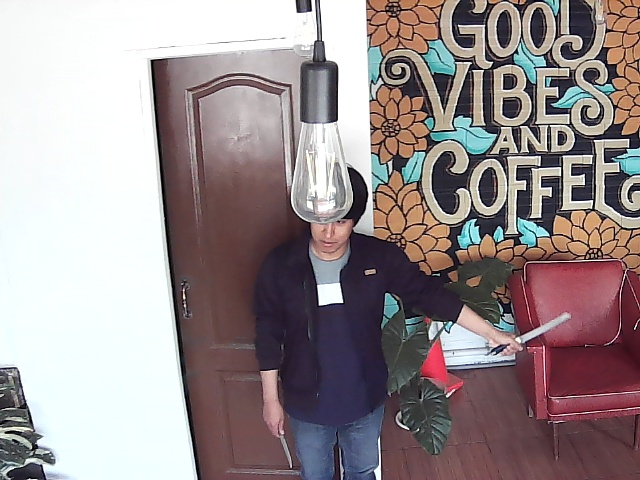cuchillo: (484, 301, 581, 366)
